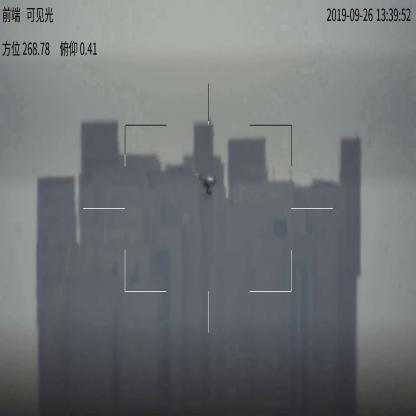uav: (194, 173, 222, 199)
